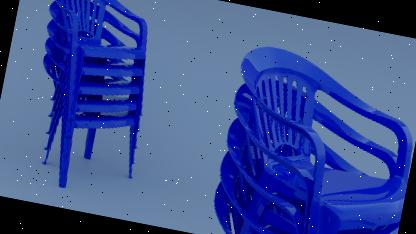chair: (202, 35, 416, 234), (4, 0, 170, 220)
